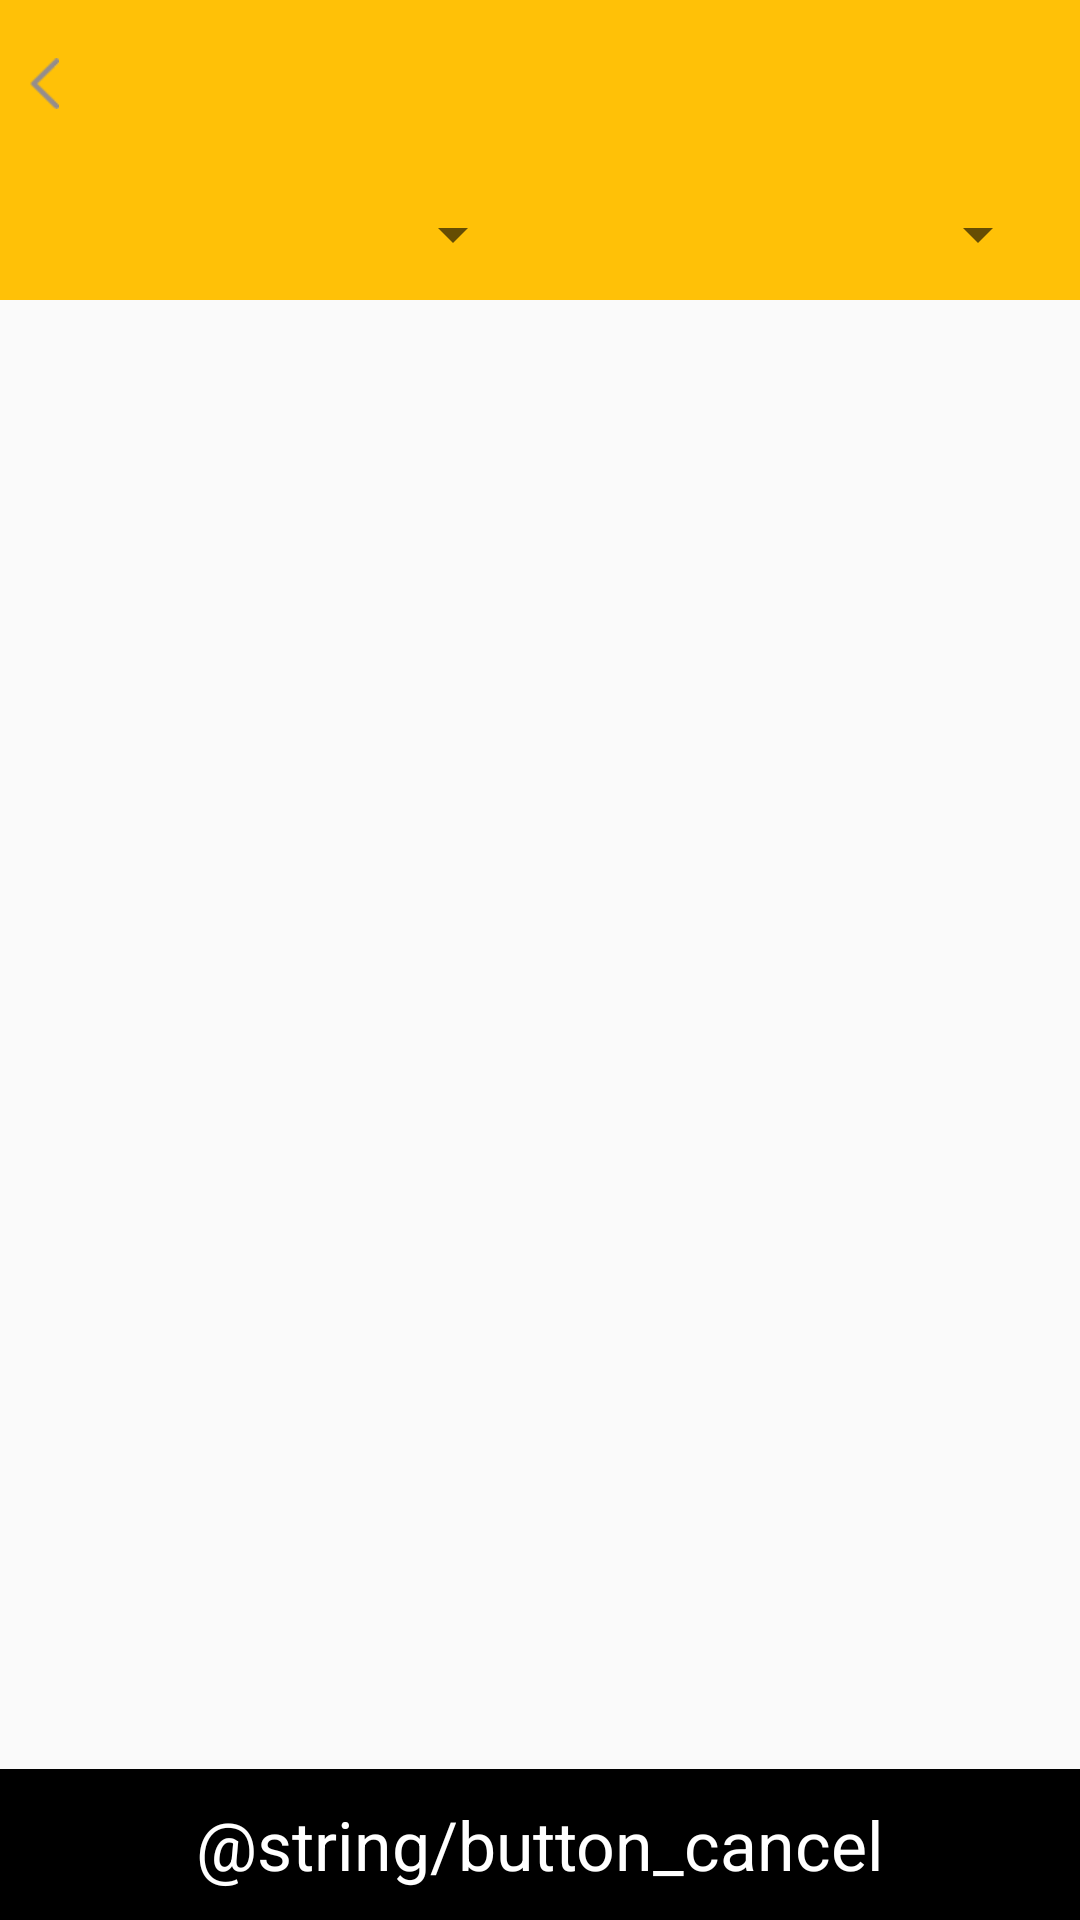

Point at icon controls on the screen. Image size 1080 x 1920, points as (x,y).
iph nav back: (44,83)
